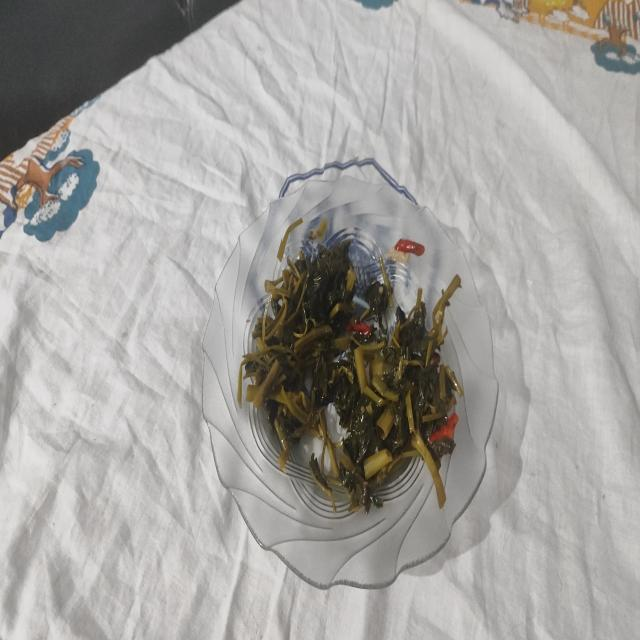tumis_kangkung: (245, 238, 462, 512)
